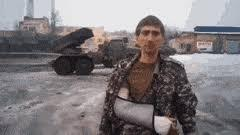MIL_SAM_TEL: (54, 27, 136, 75)
